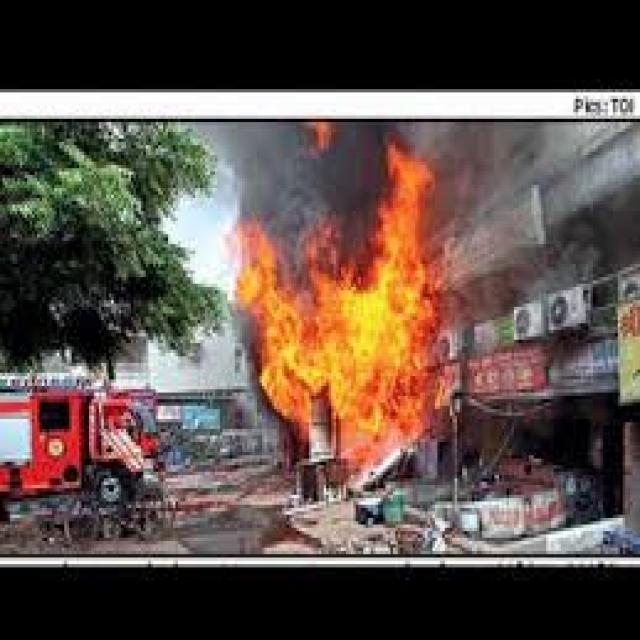fire: (235, 152, 445, 448)
smoke: (200, 126, 378, 234)
